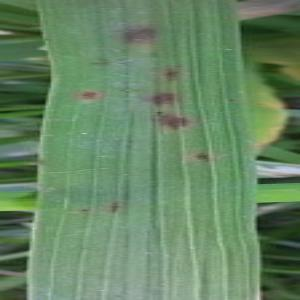Brown_Spot: (105, 18, 162, 50), (145, 105, 193, 136), (137, 86, 180, 111), (157, 63, 189, 87), (188, 145, 215, 168), (76, 85, 103, 107), (104, 197, 125, 218), (77, 203, 92, 217)
